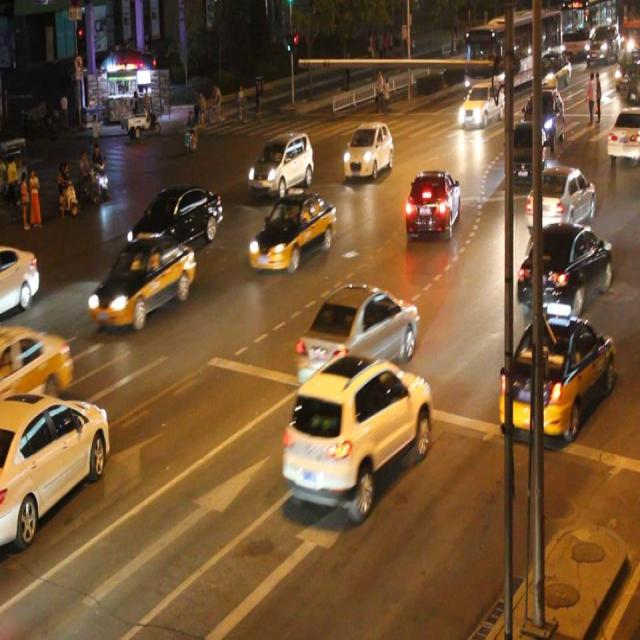car: (281, 356, 429, 514), (1, 389, 110, 540), (498, 315, 612, 434), (294, 282, 417, 384), (87, 235, 196, 327), (516, 222, 611, 316), (248, 190, 337, 271), (126, 186, 222, 254), (1, 323, 72, 402), (248, 131, 314, 195), (527, 164, 594, 227), (403, 167, 458, 241), (504, 120, 546, 191), (342, 122, 393, 180), (0, 243, 40, 313), (606, 108, 640, 160)
